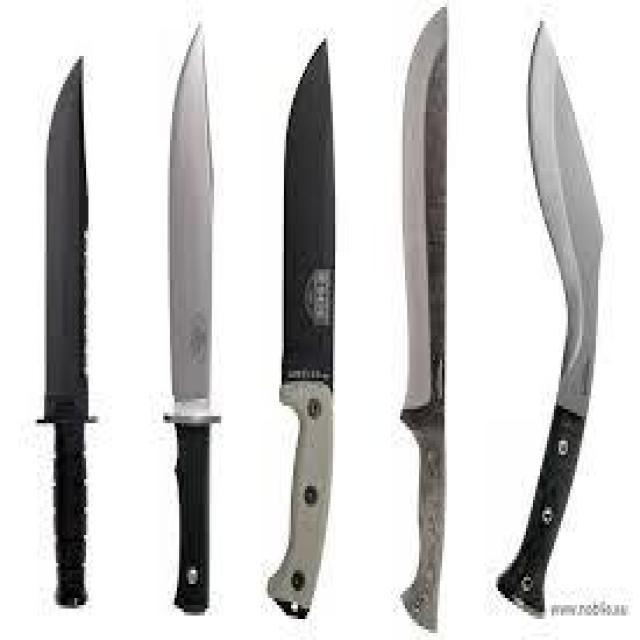Knife: (488, 4, 620, 640), (366, 0, 484, 640), (134, 14, 250, 640), (255, 13, 358, 640), (14, 49, 122, 626)
